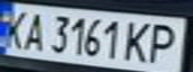1: (100, 16, 127, 61), (66, 14, 87, 56)
3: (45, 11, 72, 54)
6: (81, 15, 106, 57)
A: (18, 9, 51, 52)
K: (121, 18, 157, 63), (0, 7, 33, 51)
P: (142, 20, 187, 65)
